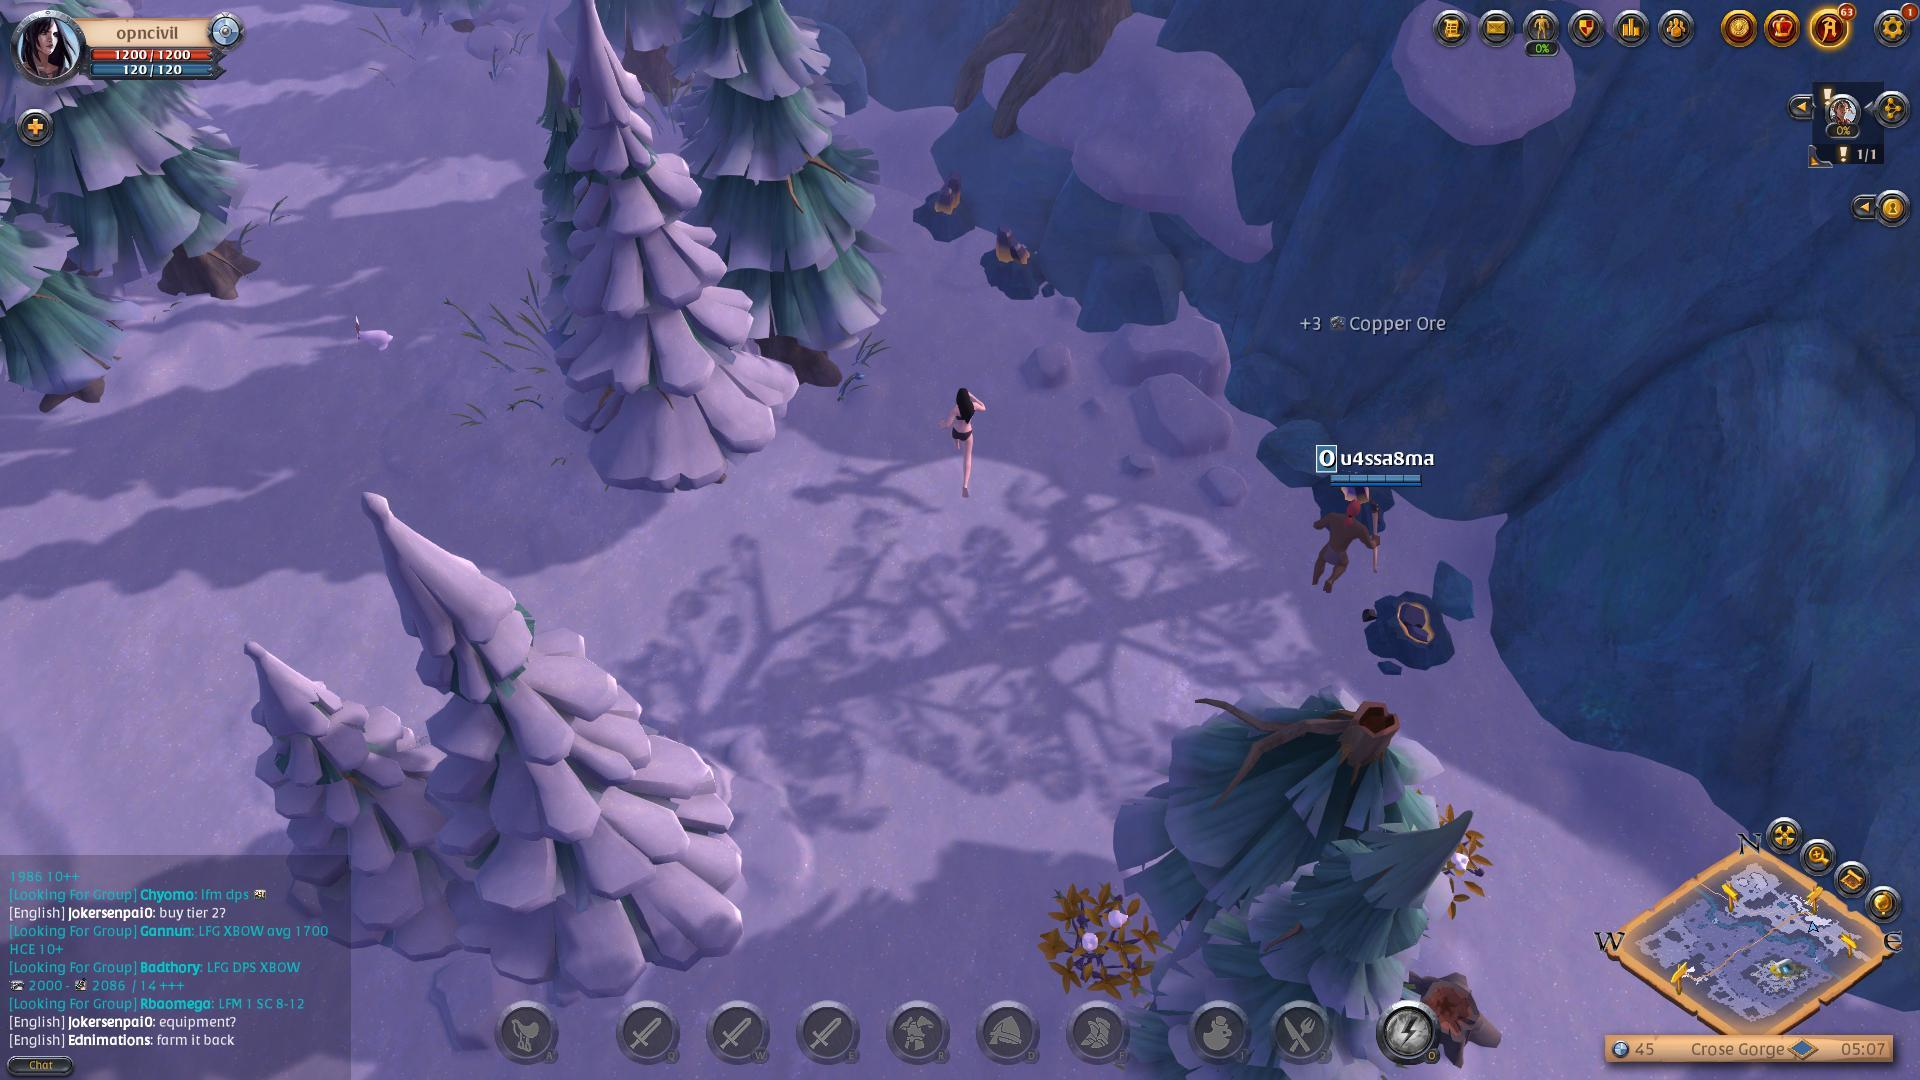copper_ore: (982, 220, 1054, 306), (916, 171, 980, 243)
cotton: (1043, 903, 1175, 1005)
